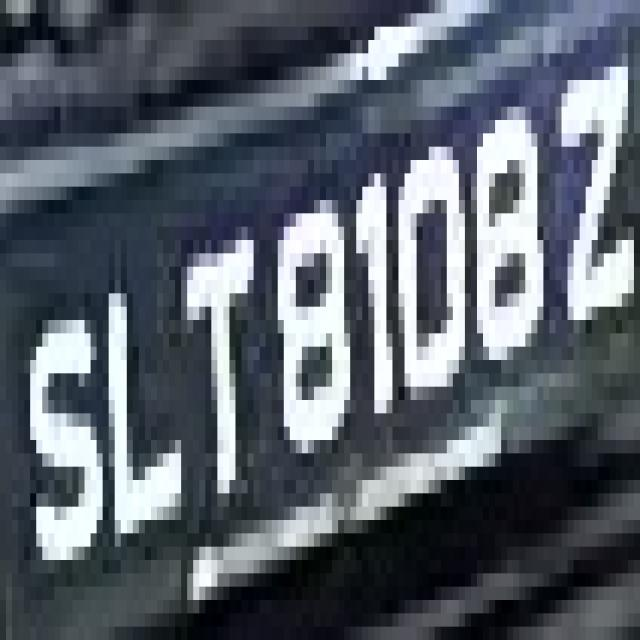0: (392, 107, 465, 400)
1: (332, 160, 399, 467)
8: (260, 213, 362, 480), (459, 66, 543, 386)
L: (85, 240, 175, 520)
S: (24, 280, 91, 573)
T: (157, 186, 260, 506)
Z: (555, 13, 634, 347)
